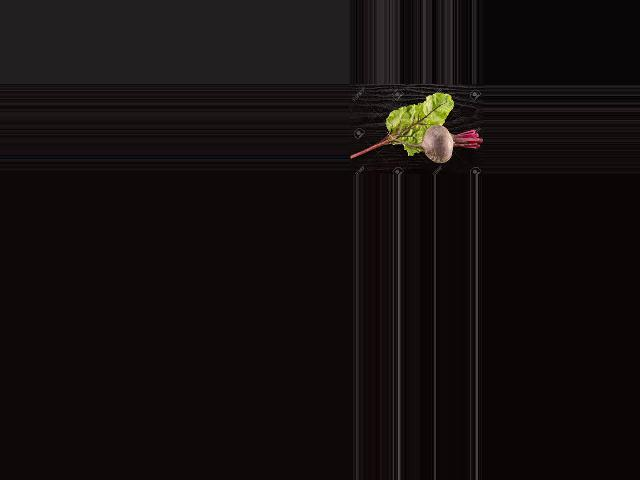beet: (387, 125, 483, 163)
